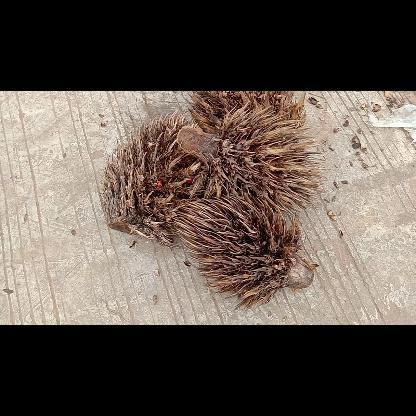Janjang kosong: (177, 100, 325, 218), (173, 196, 311, 310), (100, 113, 208, 246), (190, 90, 304, 134)
